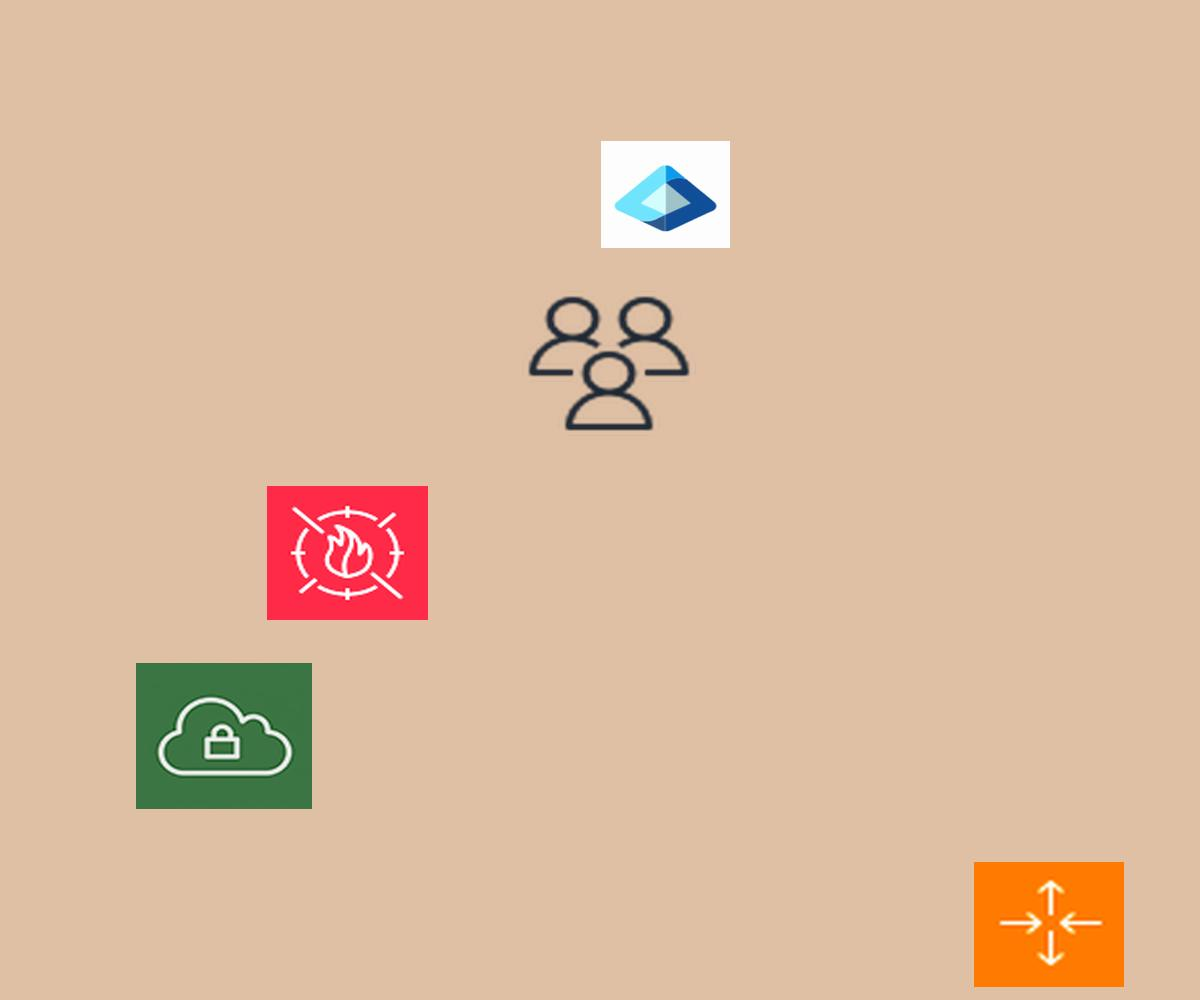AWS-Private_vpc: (136, 663, 312, 809)
AWS-Res_Users: (522, 291, 696, 436)
AWS-Scaling-group: (974, 862, 1124, 987)
AWS-WAF: (267, 486, 428, 620)
Azure_microsoft_entra: (601, 141, 730, 248)
